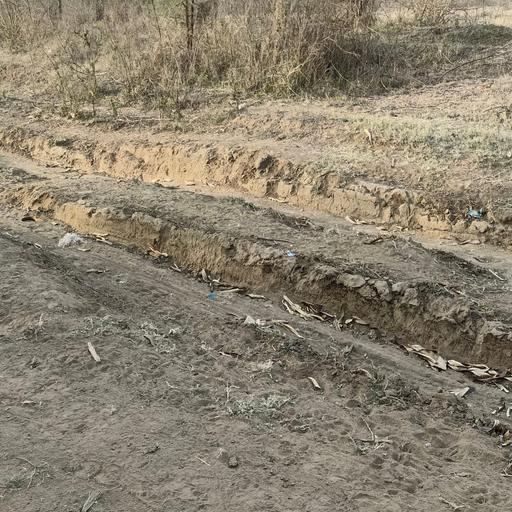vehicle_track: (0, 212, 512, 414), (208, 189, 512, 273)
